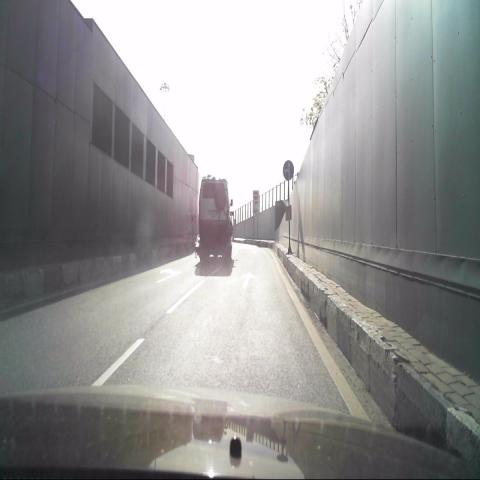4_1_5: (283, 160, 295, 181)
